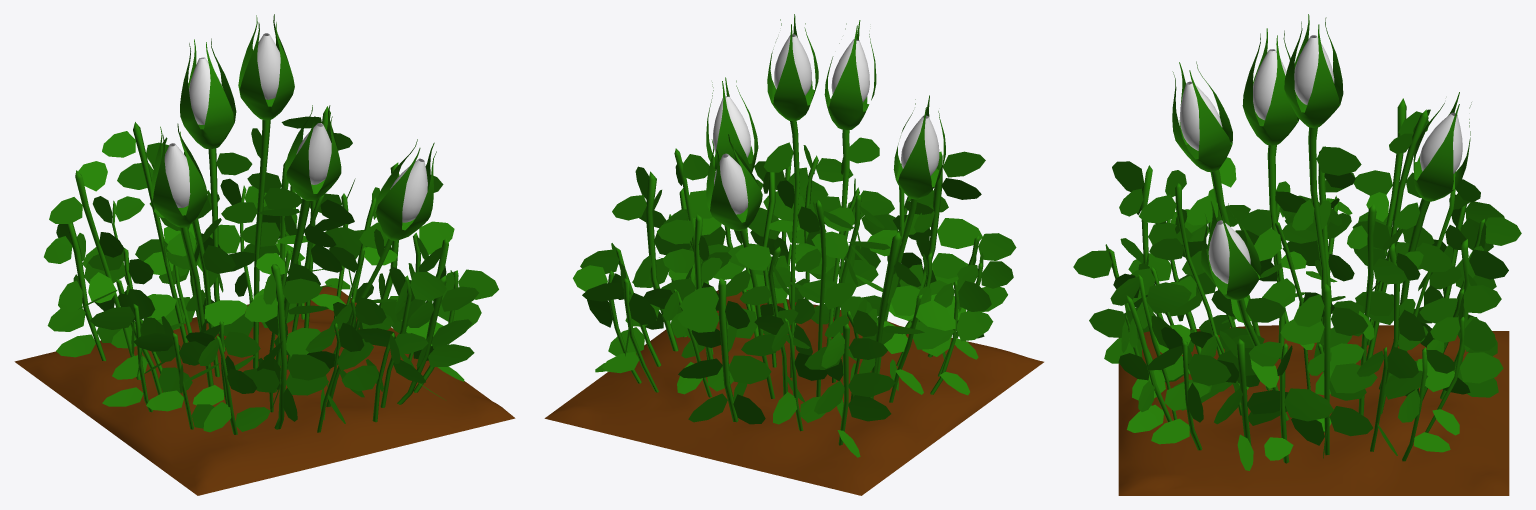
File: white-rose-p3-leaf.glb
The picture shows the model from 3 angles, left to right: view 1: azimuth 30°, elevation 25°; view 2: azimuth 150°, elevation 25°; view 3: azimuth 270°, elevation 25°; orthographic projection. The views are drawn at different scales.
Parts seen in each view (by area): view 1: 3_nft_out_of_bloom; view 2: 3_nft_out_of_bloom; view 3: 3_nft_out_of_bloom.
Boxes of the visible parts, box(x1,y1,x2,y2) form: 3_nft_out_of_bloom: box(14, 14, 515, 495); 3_nft_out_of_bloom: box(544, 14, 1043, 495); 3_nft_out_of_bloom: box(1073, 14, 1521, 495).
Size of the model in its own units: 0.7993 by 0.7814 by 0.8042.
